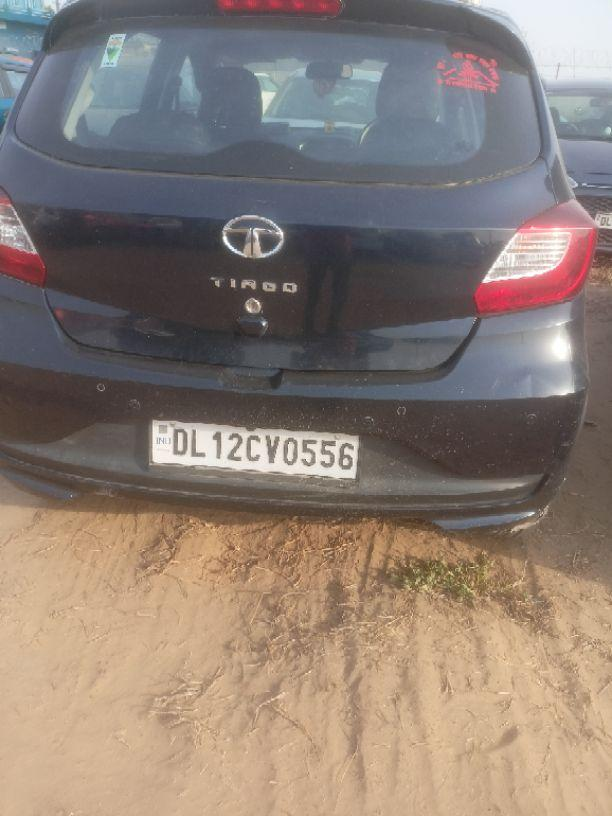license_plate: (147, 417, 360, 481)
